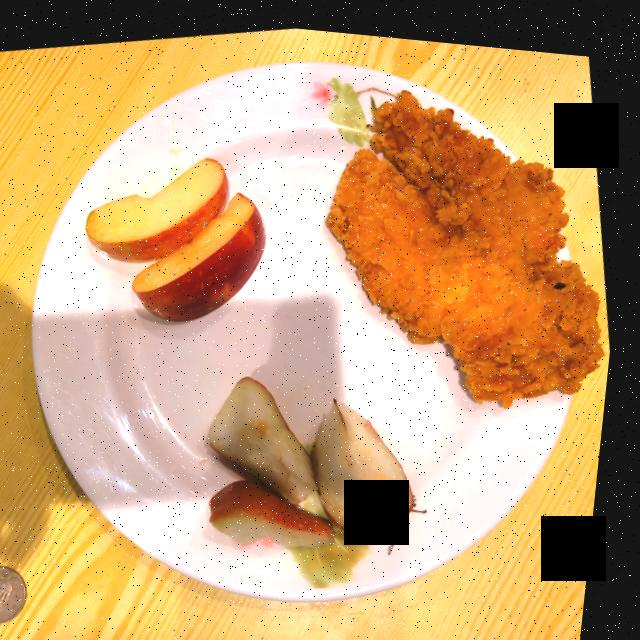apple -sliced-: (89, 153, 269, 317)
coin: (0, 564, 38, 623)
fried chicken cutlet: (330, 83, 608, 395)
